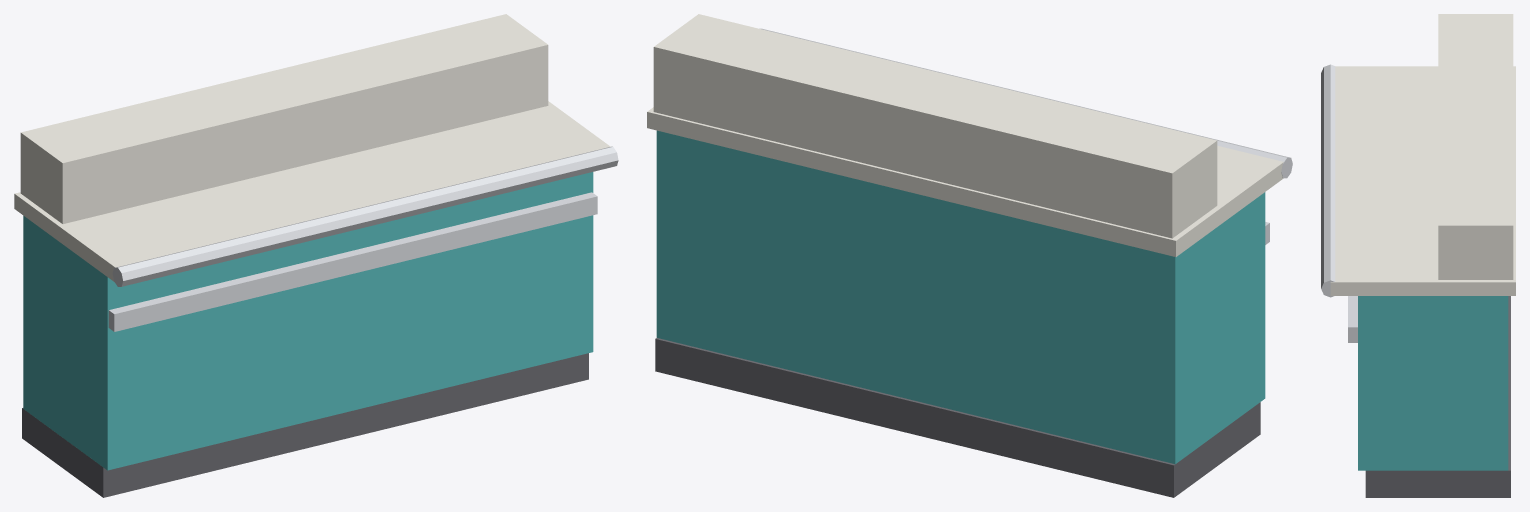
Rendered from retro-diner-and-roadside-motel-counter-run-chrome-edge-b8a4bf9c__37323.glb.
3 views of the same model, side by side, from view 1: azimuth 30°, elevation 25°; view 2: azimuth 150°, elevation 25°; view 3: azimuth 270°, elevation 25° (orthographic). The views are drawn at different scales.
Visible parts, largest first — view 1: counter-run-chrome-edge-turquoise, counter-run-chrome-edge-cream, counter-run-chrome-edge-chrome, counter-run-chrome-edge-asphalt; view 2: counter-run-chrome-edge-turquoise, counter-run-chrome-edge-cream, counter-run-chrome-edge-asphalt, counter-run-chrome-edge-chrome; view 3: counter-run-chrome-edge-cream, counter-run-chrome-edge-turquoise, counter-run-chrome-edge-asphalt, counter-run-chrome-edge-chrome.
Boxes of the visible parts, <box> form: counter-run-chrome-edge-turquoise: <box>23,172,593,470</box>; counter-run-chrome-edge-cream: <box>14,14,610,281</box>; counter-run-chrome-edge-chrome: <box>108,146,618,331</box>; counter-run-chrome-edge-asphalt: <box>22,353,588,497</box>; counter-run-chrome-edge-turquoise: <box>656,130,1265,464</box>; counter-run-chrome-edge-cream: <box>647,14,1283,256</box>; counter-run-chrome-edge-asphalt: <box>655,338,1260,497</box>; counter-run-chrome-edge-chrome: <box>759,28,1292,244</box>; counter-run-chrome-edge-cream: <box>1330,14,1515,295</box>; counter-run-chrome-edge-turquoise: <box>1358,296,1508,470</box>; counter-run-chrome-edge-asphalt: <box>1365,296,1510,497</box>; counter-run-chrome-edge-chrome: <box>1321,64,1357,342</box>.
Bounding box in the file's own units: 2.04 × 1.2 × 0.7779.
